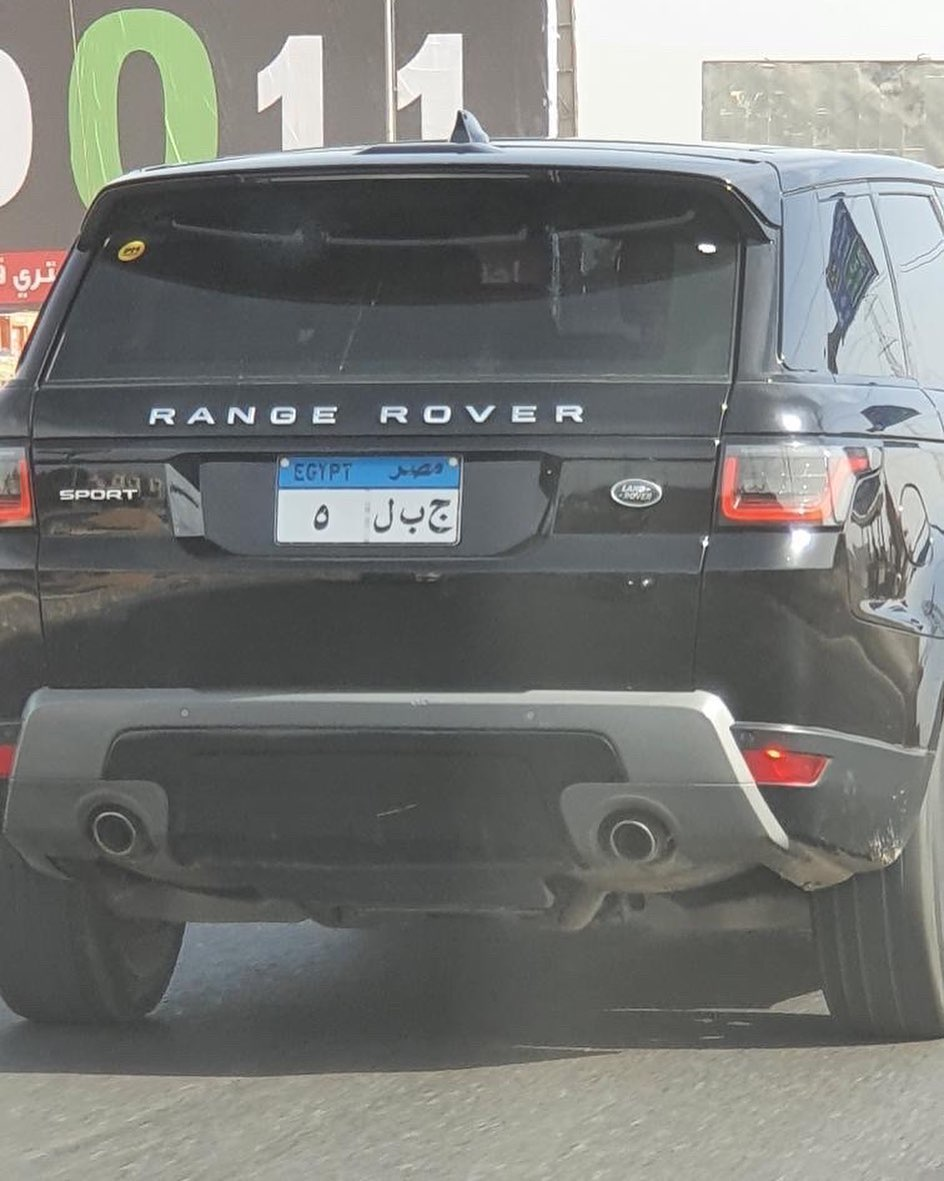carpl: (261, 436, 474, 556)
